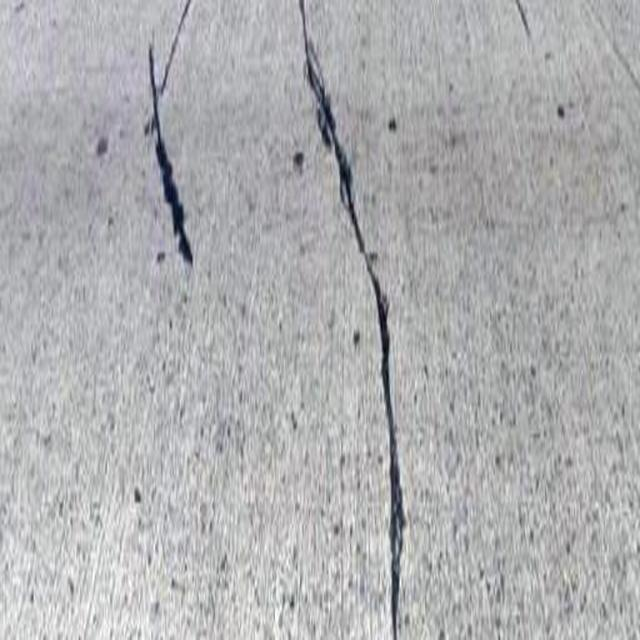Crack: (284, 0, 428, 640), (130, 2, 226, 288)
